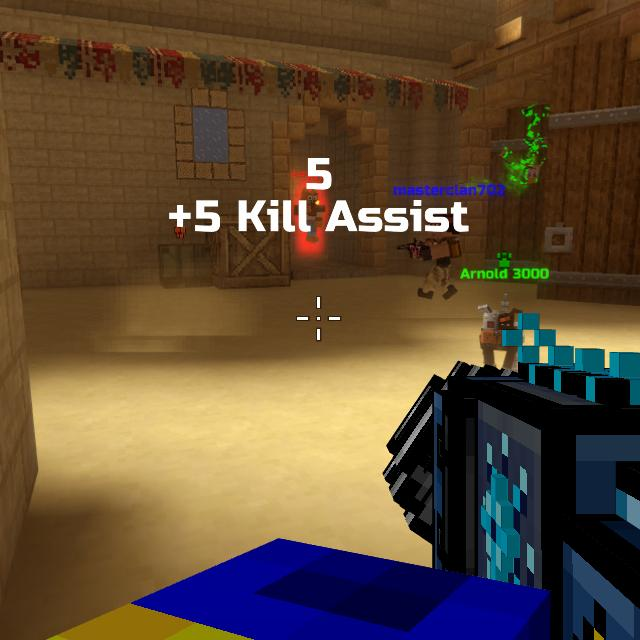Enemy: (294, 188, 326, 243)
